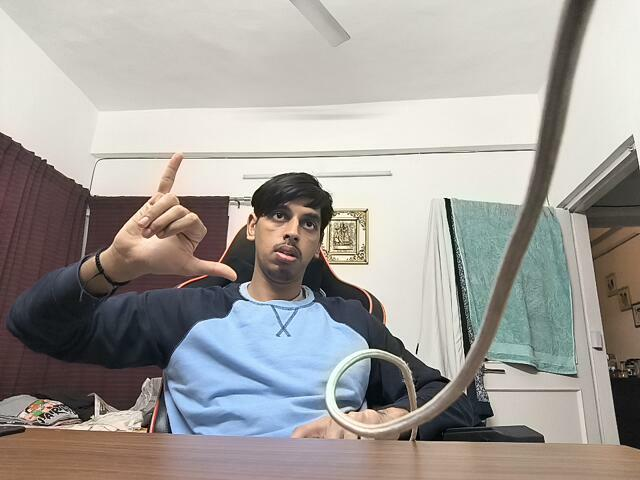FLIP: (100, 151, 246, 299)
